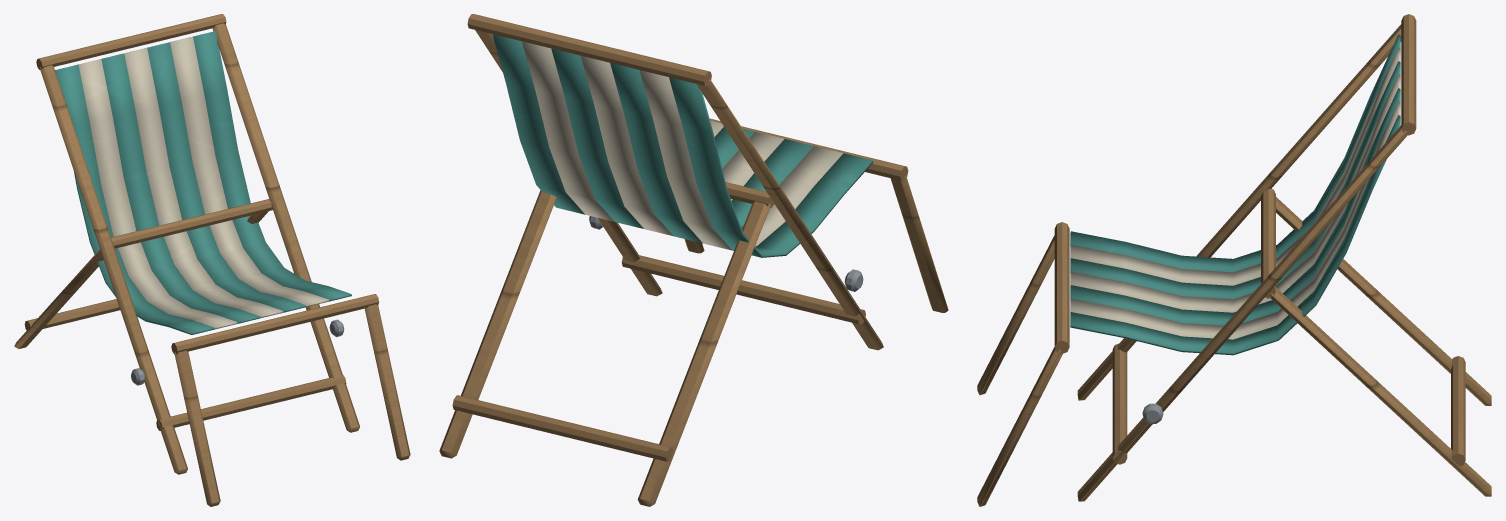
File: deck_chair.glb
The picture shows the model from 3 angles, left to right: view 1: azimuth 30°, elevation 25°; view 2: azimuth 150°, elevation 25°; view 3: azimuth 270°, elevation 25°; orthographic projection. The views are drawn at different scales.
Visible parts, largest first — view 1: deck_chair; view 2: deck_chair; view 3: deck_chair.
Boxes of the visible parts, <box> form: deck_chair: <box>14,14,410,506</box>; deck_chair: <box>439,14,948,506</box>; deck_chair: <box>977,14,1491,506</box>.
Bounding box in the file's own units: 0.7 × 1.02 × 1.25.
4 materials, 4 textured.
